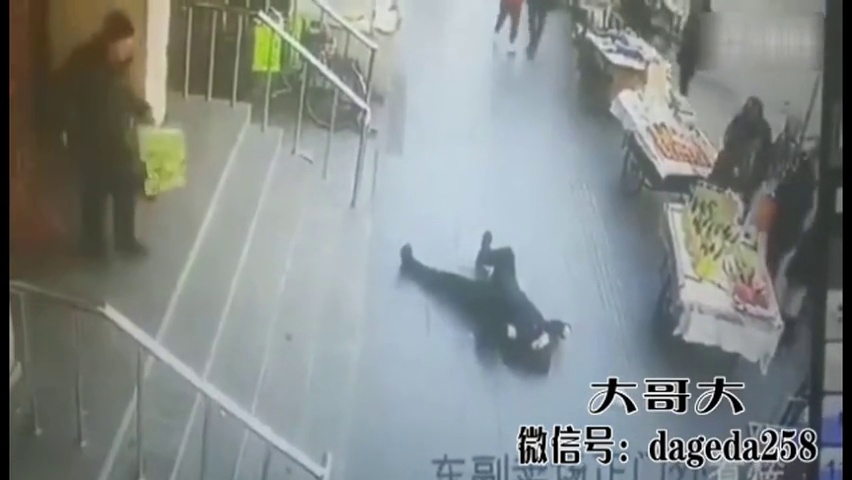fall: (403, 216, 575, 376)
nofall: (34, 12, 187, 255), (493, 1, 552, 64)
